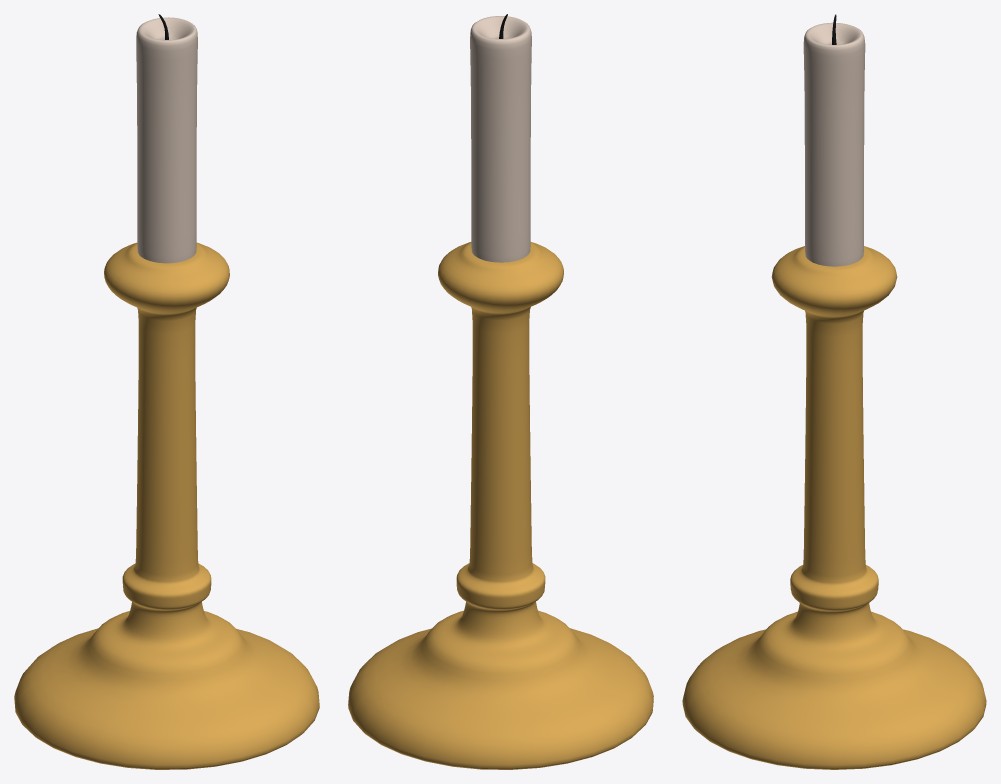
File: 086_candlestick.glb
The picture shows the model from 3 angles, left to right: view 1: azimuth 30°, elevation 25°; view 2: azimuth 150°, elevation 25°; view 3: azimuth 270°, elevation 25°; orthographic projection.
Visible parts, largest first — view 1: candlestick, candle; view 2: candlestick, candle; view 3: candlestick, candle.
Part boxes in pixels (left/top/right/bottom): candlestick: left=14, top=242, right=319, bottom=769; candle: left=136, top=17, right=197, bottom=263; candlestick: left=348, top=242, right=653, bottom=769; candle: left=470, top=16, right=531, bottom=262; candlestick: left=682, top=246, right=986, bottom=769; candle: left=803, top=22, right=865, bottom=266.
Size of the model in its own units: 0.3252 by 0.8178 by 0.3252.
